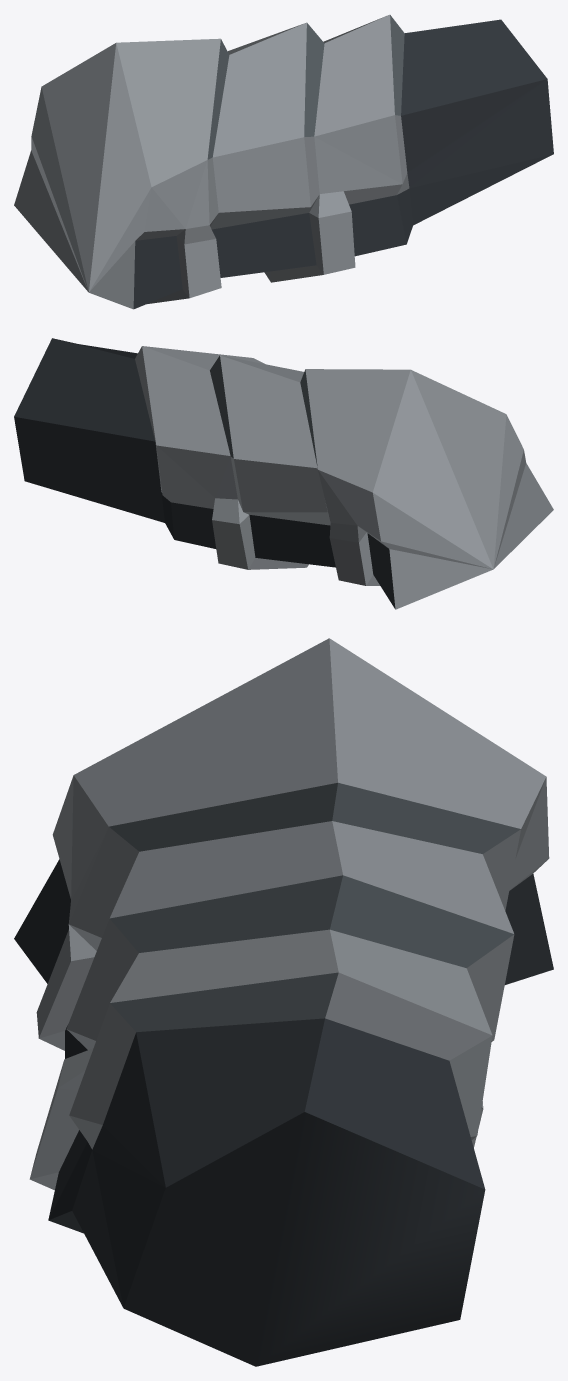
Rendered from Chr_ArmUpperLeft_Male_01_Static.fbx.
The picture shows the model from 3 angles, top to bottom: view 1: azimuth 30°, elevation 25°; view 2: azimuth 150°, elevation 25°; view 3: azimuth 270°, elevation 25°; orthographic projection. The views are drawn at different scales.
Visible parts, largest first — view 1: Chr_ArmUpperLeft_Male_01_Static; view 2: Chr_ArmUpperLeft_Male_01_Static; view 3: Chr_ArmUpperLeft_Male_01_Static.
Boxes of the visible parts, x1,y1,x2,y2 form: Chr_ArmUpperLeft_Male_01_Static: [14, 14, 553, 309]; Chr_ArmUpperLeft_Male_01_Static: [14, 338, 553, 609]; Chr_ArmUpperLeft_Male_01_Static: [14, 638, 553, 1366].
Bounding box in the file's own units: 0.3204 × 0.1718 × 0.1736.
